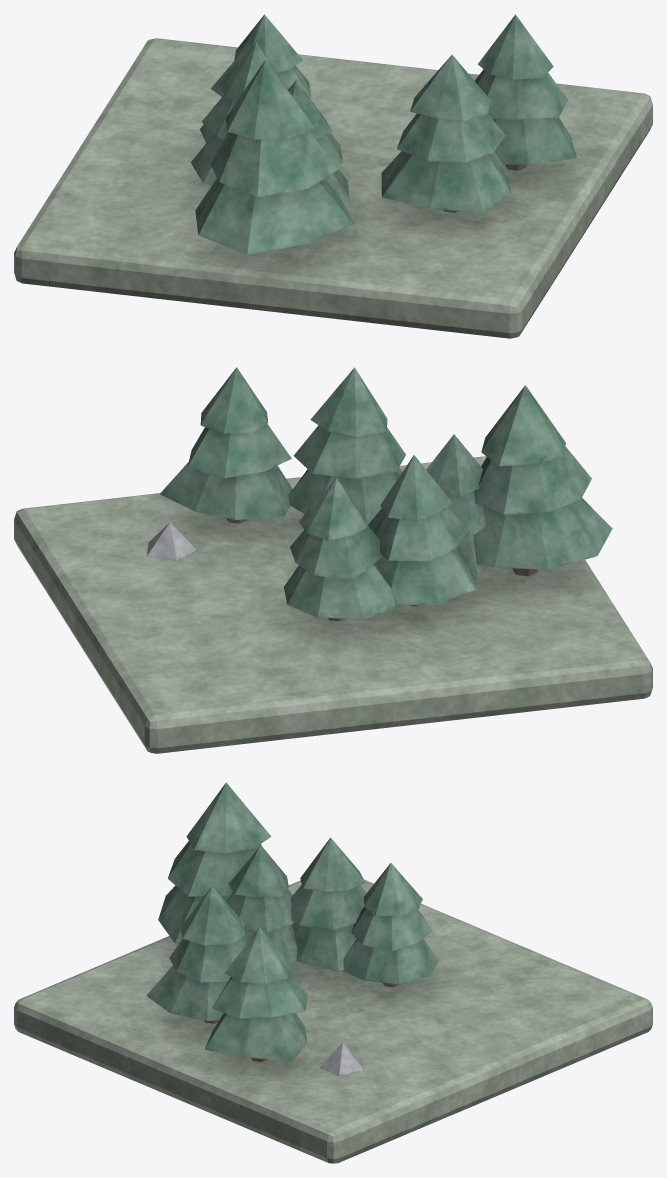
File: brakkar_forest.glb
3 renders of one model, top to bottom at view 1: azimuth 30°, elevation 25°; view 2: azimuth 150°, elevation 25°; view 3: azimuth 270°, elevation 25°, orthographic. The views are drawn at different scales.
Parts seen in each view (by area): view 1: dilek; view 2: dilek; view 3: dilek.
Boxes of the visible parts, x1,y1,x2,y2 form: dilek: [14, 14, 652, 338]; dilek: [14, 367, 652, 753]; dilek: [14, 782, 652, 1163].
Size of the model in its own units: 2.42 by 0.8156 by 2.42.
1 material, 1 textured.
